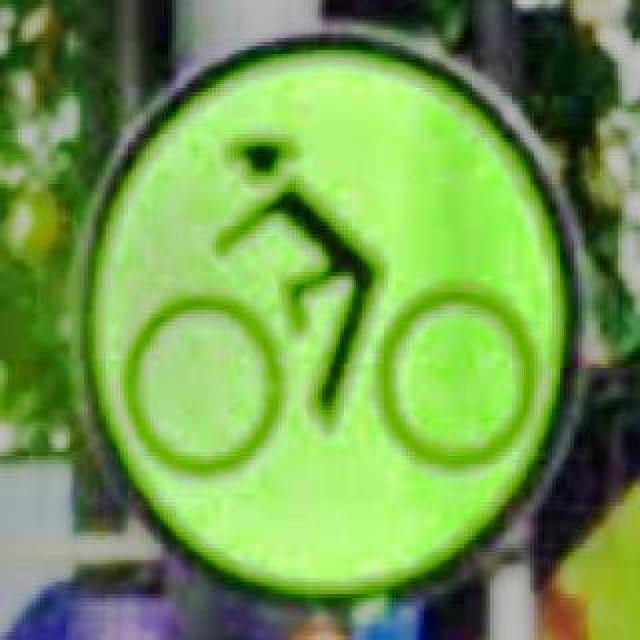bike lane: (70, 22, 590, 606)
